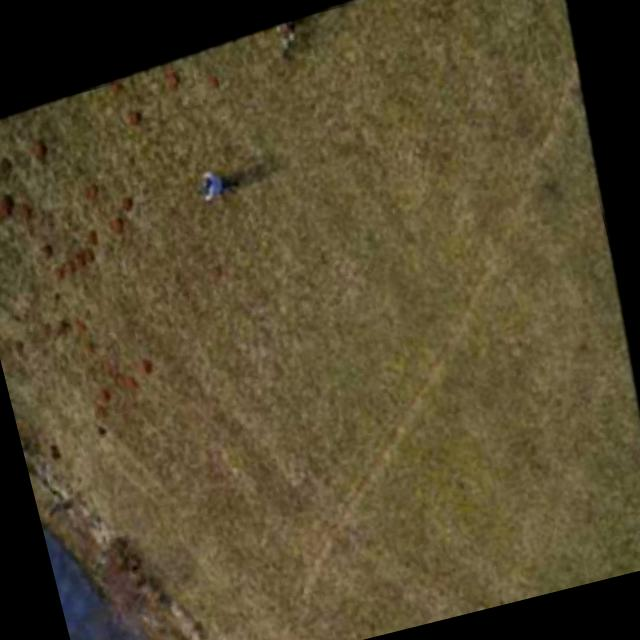Person: (185, 150, 246, 208), (264, 12, 312, 62)
